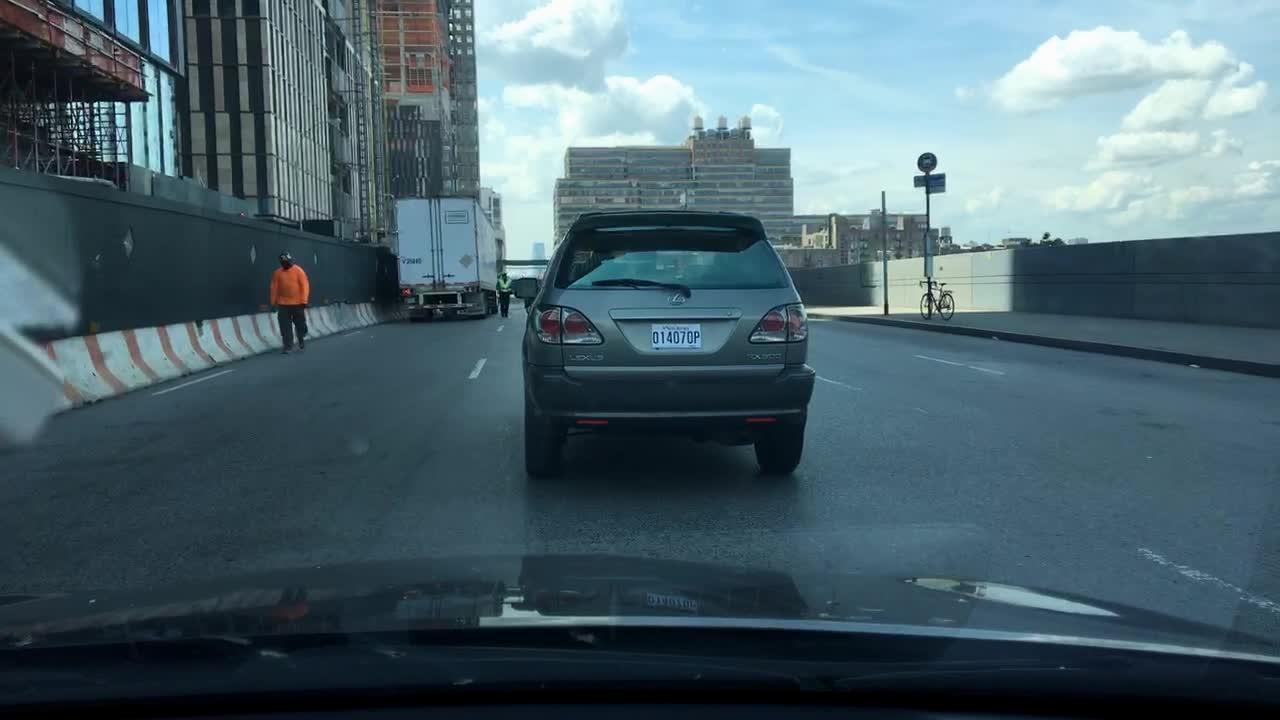lexus: (660, 287, 690, 310)
